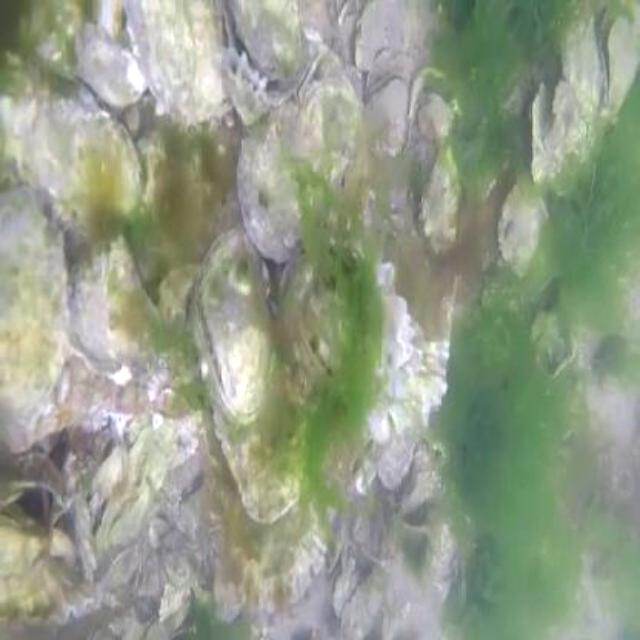Oyster-Closed: (0, 47, 141, 235), (0, 186, 68, 452), (191, 231, 278, 430), (214, 367, 303, 524), (122, 0, 232, 123), (69, 236, 163, 369), (0, 517, 102, 627), (369, 320, 448, 443), (237, 135, 302, 265), (499, 176, 556, 288), (73, 24, 147, 107), (301, 84, 357, 186), (419, 134, 461, 253), (373, 264, 415, 376), (365, 74, 410, 158), (221, 50, 267, 126), (394, 453, 444, 521), (158, 263, 199, 332), (278, 249, 311, 326), (365, 52, 417, 98), (377, 432, 415, 486), (95, 443, 128, 501), (330, 551, 359, 615), (294, 48, 324, 108), (350, 436, 377, 492), (417, 96, 452, 137), (94, 0, 125, 36)
Oyster-Open: (531, 21, 601, 190), (218, 0, 307, 96), (599, 5, 638, 108), (99, 480, 150, 548)
